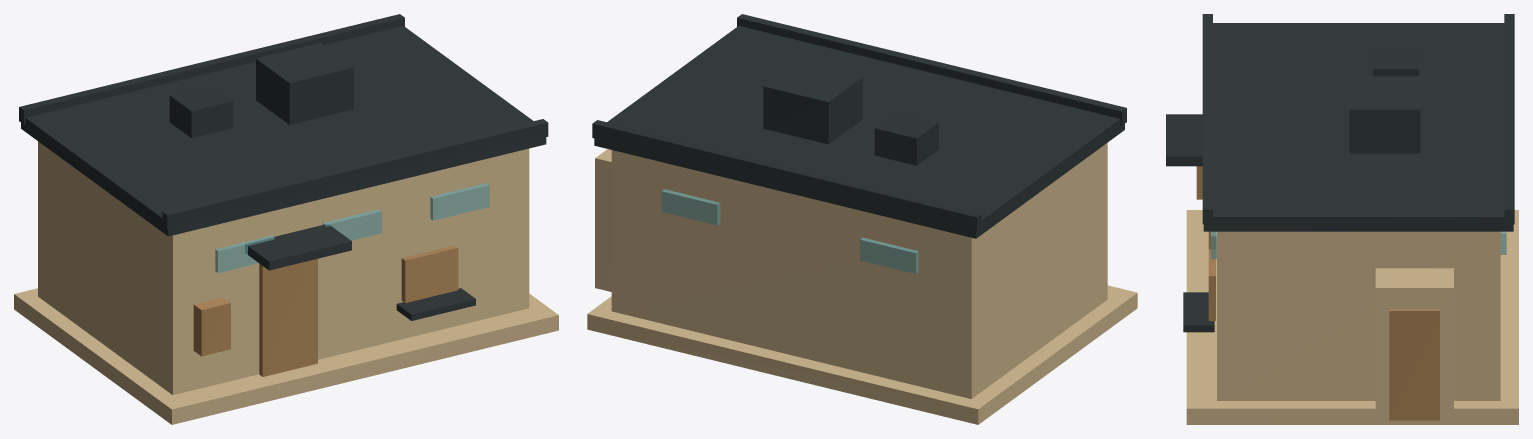
File: Genetics-laboratory.glb
The picture shows the model from 3 angles, left to right: view 1: azimuth 30°, elevation 25°; view 2: azimuth 150°, elevation 25°; view 3: azimuth 270°, elevation 25°; orthographic projection. The views are drawn at different scales.
Visible parts, largest first — view 1: genetics-laboratory-static-genetics-laboratory-pale-concrete, genetics-laboratory-static-genetics-laboratory-charcoal-roof, genetics-laboratory-static-genetics-laboratory-muted-teal-co, genetics-laboratory-static-genetics-laboratory-dark-high-win, genetics-laboratory-static-genetics-laboratory-warm-emergenc; view 2: genetics-laboratory-static-genetics-laboratory-pale-concrete, genetics-laboratory-static-genetics-laboratory-charcoal-roof, genetics-laboratory-static-genetics-laboratory-dark-high-win; view 3: genetics-laboratory-static-genetics-laboratory-charcoal-roof, genetics-laboratory-static-genetics-laboratory-pale-concrete, genetics-laboratory-static-genetics-laboratory-muted-teal-co, genetics-laboratory-static-genetics-laboratory-dark-high-win.
Part boxes in pixels (x1=…): genetics-laboratory-static-genetics-laboratory-pale-concrete: x1=14, y1=141, x2=558, y2=424; genetics-laboratory-static-genetics-laboratory-charcoal-roof: x1=19, y1=14, x2=548, y2=320; genetics-laboratory-static-genetics-laboratory-muted-teal-co: x1=259, y1=245, x2=458, y2=376; genetics-laboratory-static-genetics-laboratory-dark-high-win: x1=215, y1=183, x2=489, y2=272; genetics-laboratory-static-genetics-laboratory-warm-emergenc: x1=193, y1=297, x2=230, y2=356; genetics-laboratory-static-genetics-laboratory-pale-concrete: x1=587, y1=143, x2=1137, y2=424; genetics-laboratory-static-genetics-laboratory-charcoal-roof: x1=592, y1=14, x2=1126, y2=238; genetics-laboratory-static-genetics-laboratory-dark-high-win: x1=661, y1=189, x2=918, y2=273; genetics-laboratory-static-genetics-laboratory-charcoal-roof: x1=1166, y1=14, x2=1514, y2=332; genetics-laboratory-static-genetics-laboratory-pale-concrete: x1=1186, y1=210, x2=1518, y2=424; genetics-laboratory-static-genetics-laboratory-muted-teal-co: x1=1208, y1=231, x2=1439, y2=420; genetics-laboratory-static-genetics-laboratory-dark-high-win: x1=1211, y1=231, x2=1506, y2=259.
Size of the model in its own units: 6.74 by 3.69 by 4.72.
